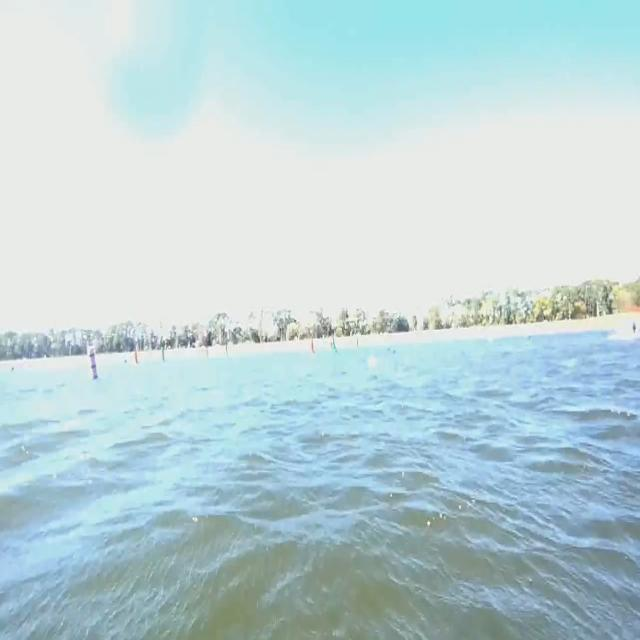green-column-buoy: (161, 344, 168, 364), (332, 341, 338, 353)
red-column-buoy: (134, 347, 140, 365), (309, 339, 314, 356)
